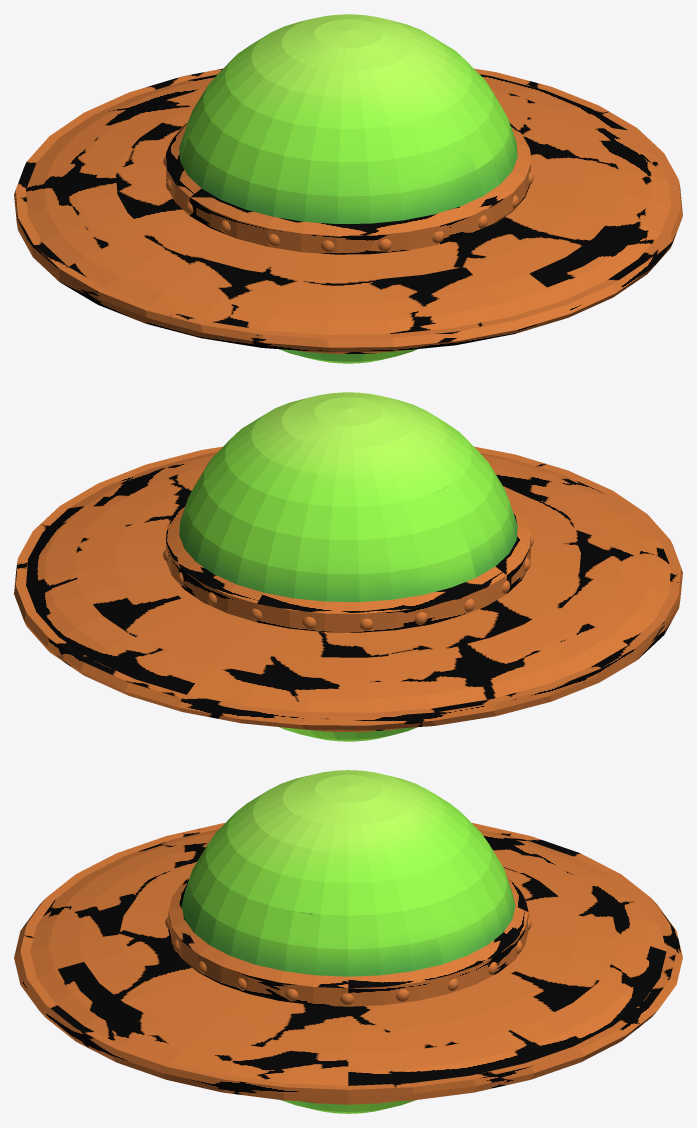
The model's file is ufo0.fbx.
3 views of the same model, one above another, from view 1: azimuth 30°, elevation 25°; view 2: azimuth 150°, elevation 25°; view 3: azimuth 270°, elevation 25° (orthographic).
Visible parts, largest first — view 1: Sphere; view 2: Sphere; view 3: Sphere.
Boxes of the visible parts, left/top/right/bottom form: Sphere: left=14, top=14, right=682, bottom=363; Sphere: left=14, top=392, right=682, bottom=741; Sphere: left=14, top=770, right=682, bottom=1113.
Size of the model in its own units: 548 by 277 by 559.
